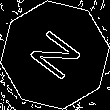N_SE: (23, 24, 87, 86)
